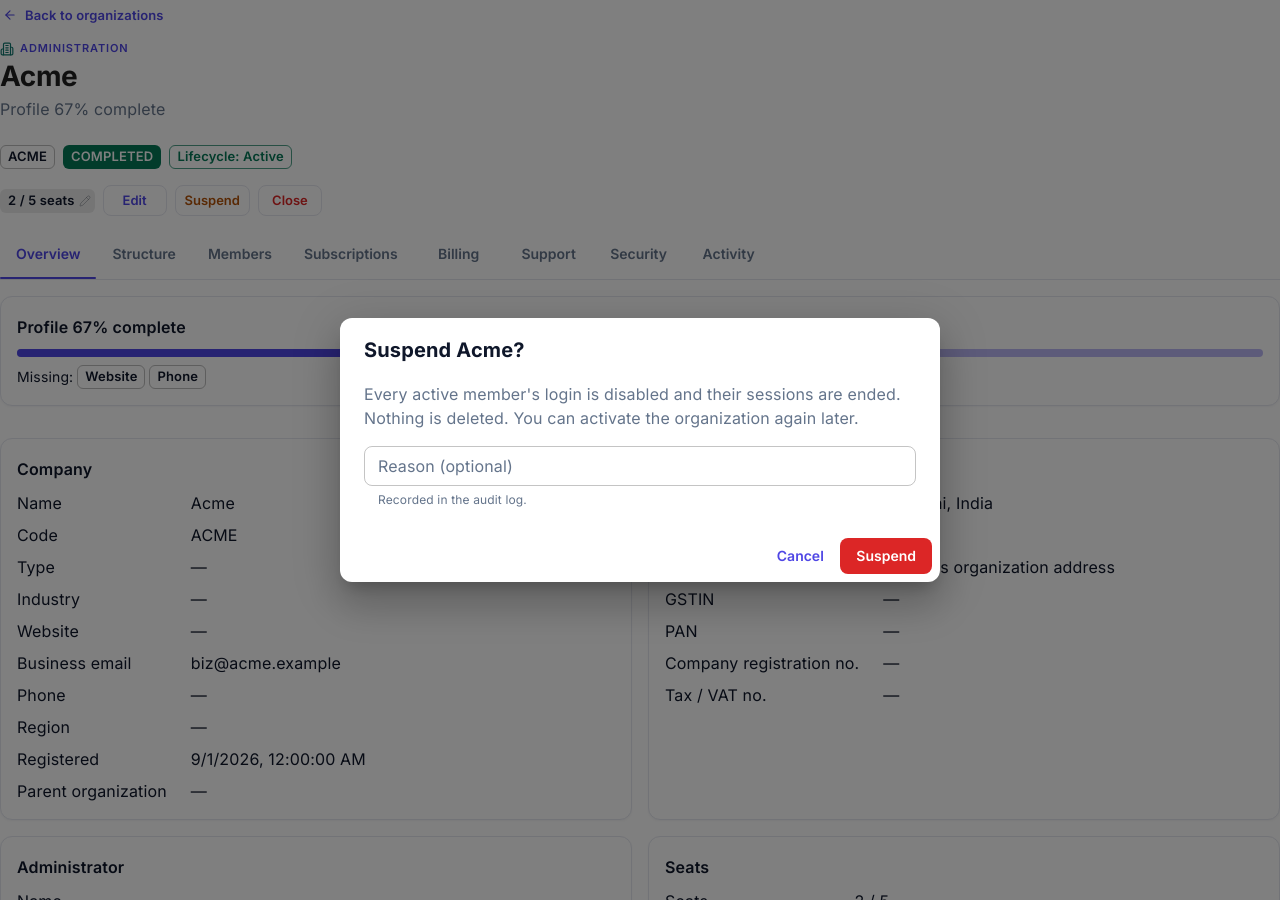
Test case: AdminOrganizationDetailPage — organization › opens the dialog chosen in the list row menu and shows the backend refusal
Click the button "Suspend".
click(886, 556)  # box [840,538,932,574]
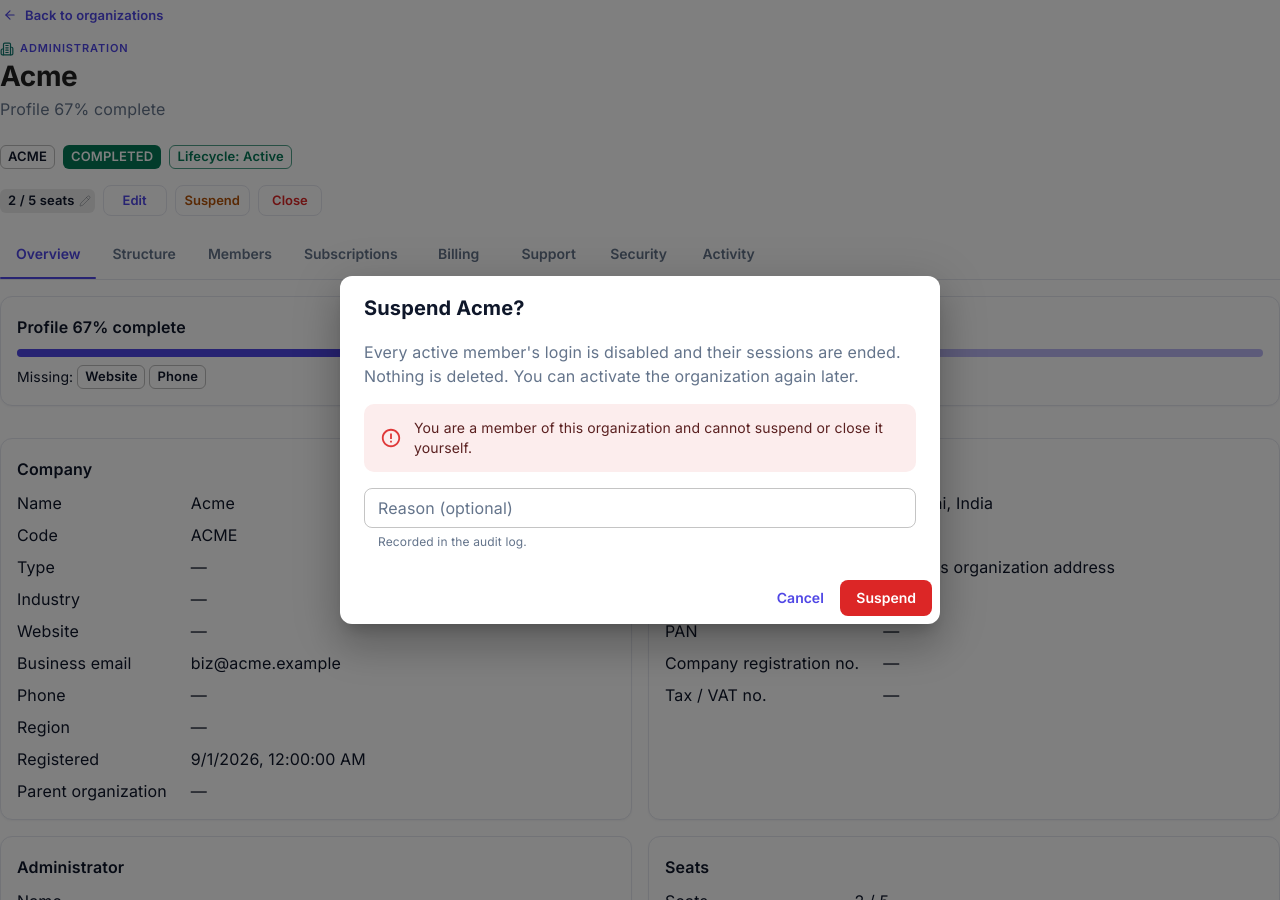
Check: the text "cannot suspend or close it yourself" is shown, box [414,419,883,456]
